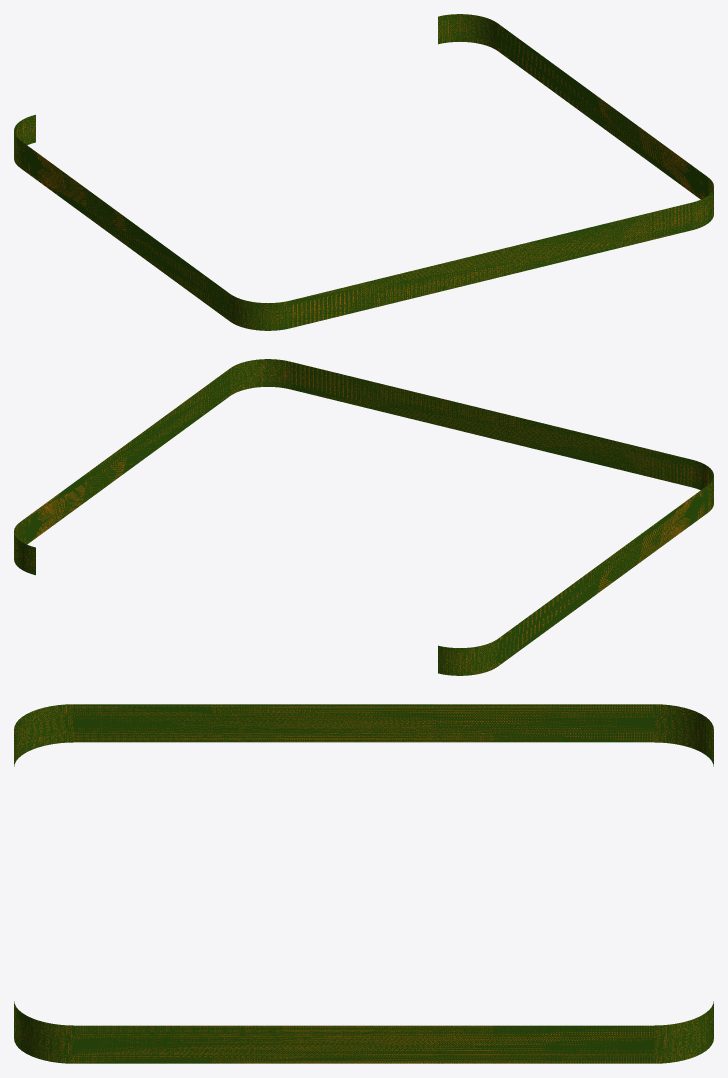
Rendered from original-10.obj.
3 views of the same model, one above another, from view 1: azimuth 30°, elevation 25°; view 2: azimuth 150°, elevation 25°; view 3: azimuth 270°, elevation 25° (orthographic). The views are drawn at different scales.
Parts seen in each view (by area): view 1: #ID497; view 2: #ID497; view 3: #ID497.
Part boxes in pixels (x1,y1,x2,y2): #ID497: [14, 14, 713, 330]; #ID497: [14, 359, 713, 675]; #ID497: [14, 704, 713, 1063].
Bounding box in the file's own units: 0.9584 × 0.0532 × 0.8823.
